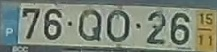2: (145, 10, 166, 44)
6: (169, 11, 190, 46), (42, 7, 63, 41)
7: (21, 7, 41, 40)
O: (105, 8, 130, 43)
Q: (77, 7, 102, 42)
